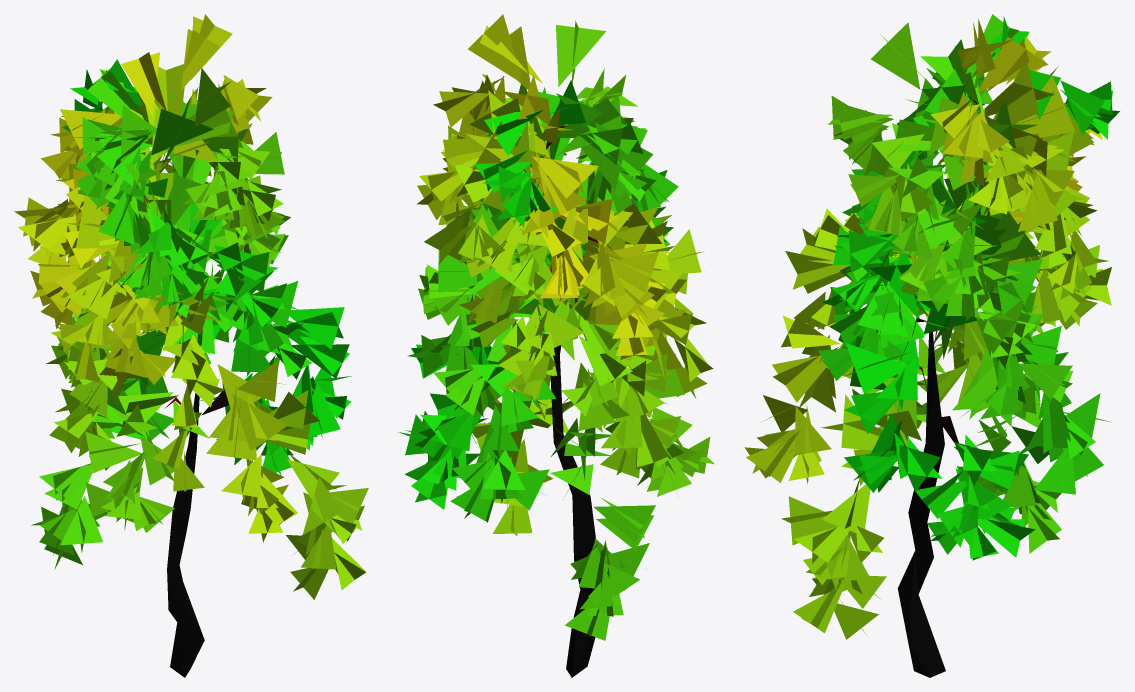
Rendered from birch 1 lod2.FBX.
The picture shows the model from 3 angles, left to right: view 1: azimuth 30°, elevation 25°; view 2: azimuth 150°, elevation 25°; view 3: azimuth 270°, elevation 25°; orthographic projection. The views are drawn at different scales.
Parts seen in each view (by area): view 1: birch1_LOD2; view 2: birch1_LOD2; view 3: birch1_LOD2.
Boxes of the visible parts, box(x1,y1,x2,y2) form: birch1_LOD2: box(14, 14, 368, 677); birch1_LOD2: box(398, 14, 714, 677); birch1_LOD2: box(744, 14, 1119, 677).
Size of the model in its own units: 75380 by 163074 by 81878.
